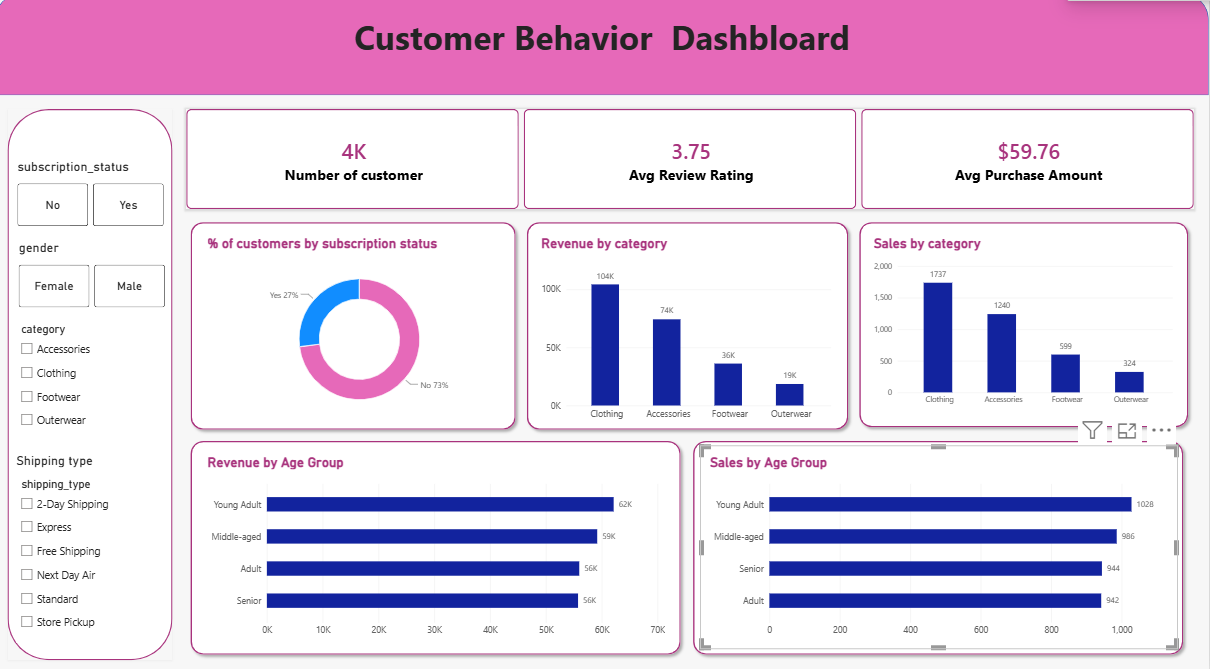

What the dashboard file says about the page in this screenshot:
{"tool":"powerbi","page":{"name":"Page 1","canvas":[1942,1080],"ordinal":0},"visuals":[{"type":"cardVisual","fields":{"Data":["public customer.Number of customer","public customer.avg review rating","public customer.avg purchase amount"]},"box":[306,184,1612,160],"z":0},{"type":"shape","box":[0,0,1942,162],"z":1000},{"type":"textbox","box":[120,32,1702.9,128.5],"z":2000},{"type":"shape","box":[304,356,538,350],"z":3000},{"type":"donutChart","title":"% of customers by subscription status","fields":{"Category":["public customer.subscription_status"],"Y":["CountNonNull(public customer.customer_id)"]},"box":[324,372,518,322],"z":4000},{"type":"shape","box":[842,356,532,350],"z":5000},{"type":"shape","box":[1374,356,544,346],"z":6000},{"type":"clusteredColumnChart","title":"Revenue by category","fields":{"Y":["Sum(public customer.purchase_amount)"],"Category":["public customer.category"]},"box":[858,372,496,330],"z":7000},{"type":"clusteredColumnChart","title":"Sales by category","fields":{"Y":["CountNonNull(public customer.customer_id)"],"Category":["public customer.category"]},"box":[1390,372,510,306],"z":8000},{"type":"shape","box":[20,184,264,882],"z":9000},{"type":"advancedSlicerVisual","fields":{"Values":["public customer.subscription_status"]},"box":[36,264,234,108],"z":10000},{"type":"advancedSlicerVisual","fields":{"Values":["public customer.gender"]},"box":[38,394,234,108],"z":11000},{"type":"slicer","title":"Shipping type","fields":{"Values":["public customer.shipping_type"]},"box":[34,734,218,304],"z":12000},{"type":"slicer","fields":{"Values":["public customer.category"]},"box":[34,526,204,180],"z":13000},{"type":"shape","box":[304,706,802,360],"z":14000},{"type":"barChart","title":"Revenue by Age Group","fields":{"Y":["Sum(public customer.purchase_amount)"],"Category":["public customer.age_group"]},"box":[324,722,764,326],"z":15000},{"type":"shape","box":[1108,706,802,360],"z":15001},{"type":"barChart","title":"Sales by Age Group","fields":{"Y":["CountNonNull(public customer.customer_id)"],"Category":["public customer.age_group"]},"box":[1128,722,764,326],"z":15002}]}

Visuals, with their boxes in screenshot pixels (x1, y1, x2, y2), scaled from the page's 1942x1080 canvas onto the 1210x669 screenshot:
cardVisual - public customer.Number of customer x public customer.avg review rating: (191,114,1195,213)
shape: (0,0,1209,100)
textbox: (75,20,1136,99)
shape: (189,221,525,437)
"% of customers by subscription status" donutChart: (202,230,525,430)
shape: (525,221,856,437)
shape: (856,221,1195,435)
"Revenue by category" clusteredColumnChart: (535,230,844,435)
"Sales by category" clusteredColumnChart: (866,230,1184,420)
shape: (12,114,177,660)
advancedSlicerVisual - public customer.subscription_status: (22,164,168,230)
advancedSlicerVisual - public customer.gender: (24,244,169,311)
"Shipping type" slicer: (21,455,157,643)
slicer - public customer.category: (21,326,148,437)
shape: (189,437,689,660)
"Revenue by Age Group" barChart: (202,447,678,649)
shape: (690,437,1190,660)
"Sales by Age Group" barChart: (703,447,1179,649)
